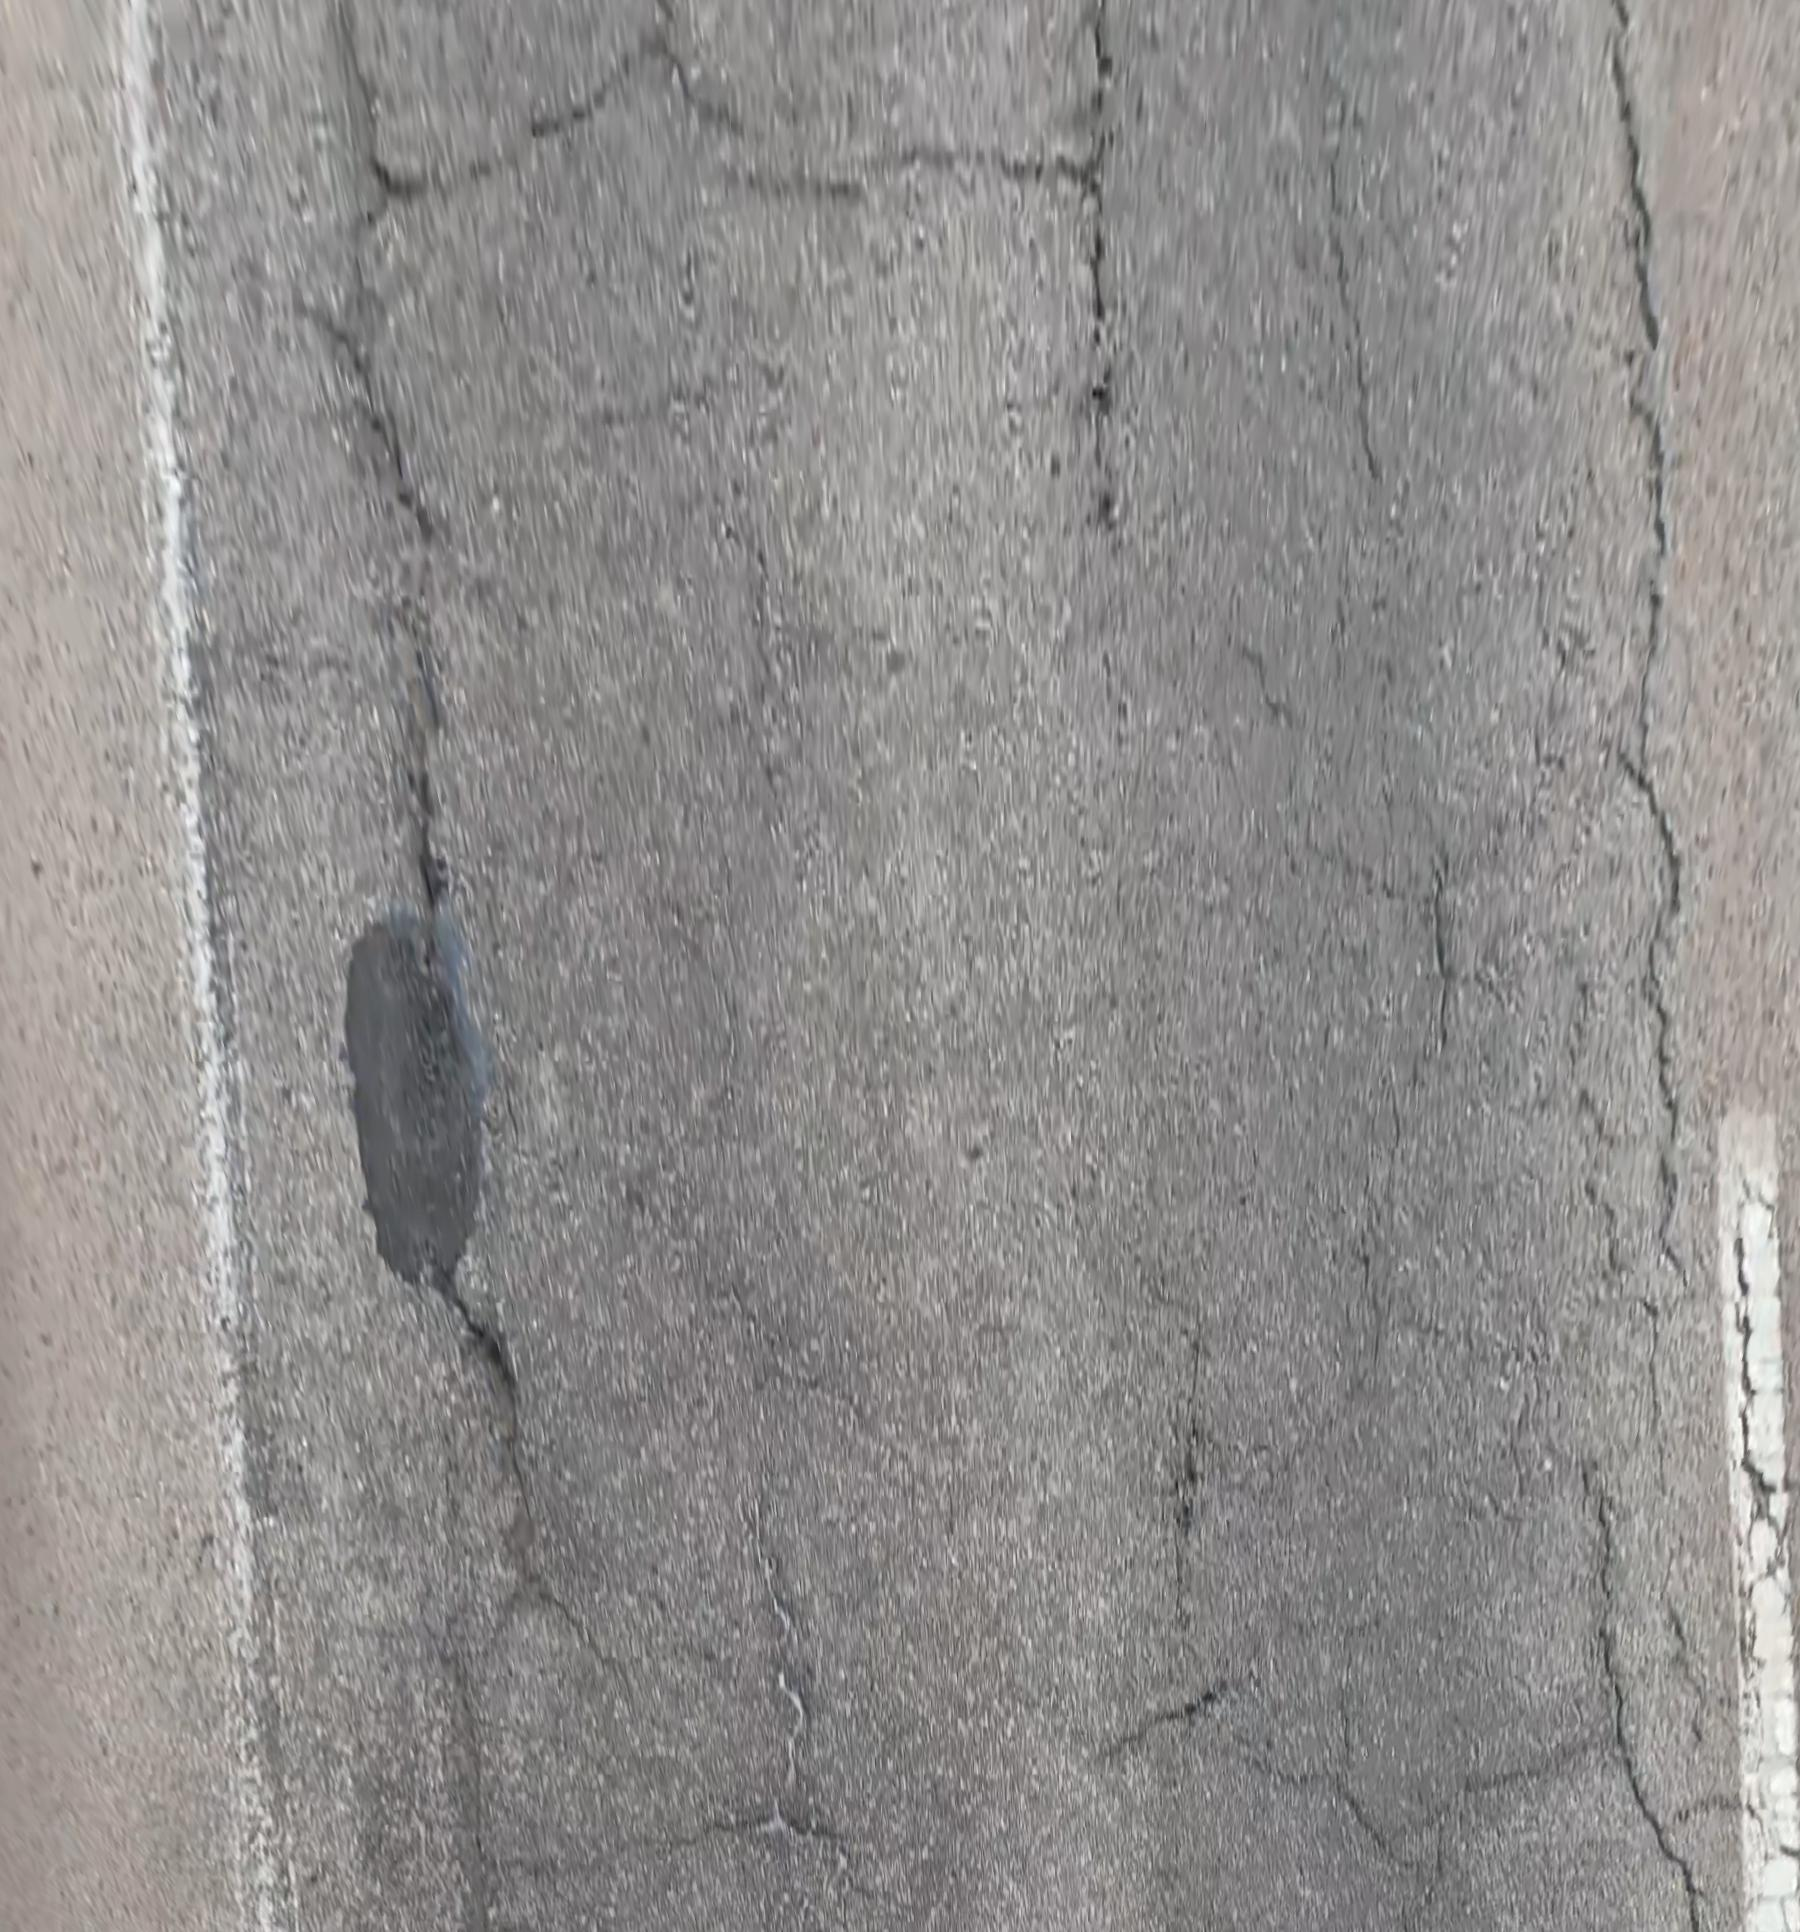pothole_patch_good: (328, 902, 492, 1291)
